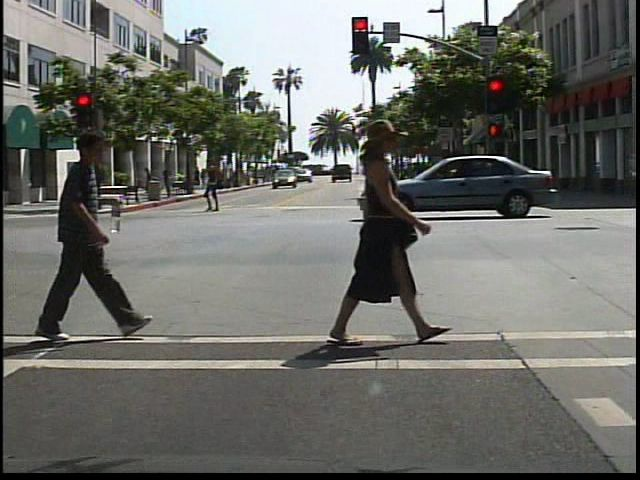person: (316, 122, 442, 351), (36, 128, 129, 344), (202, 155, 229, 214), (141, 164, 162, 202)
